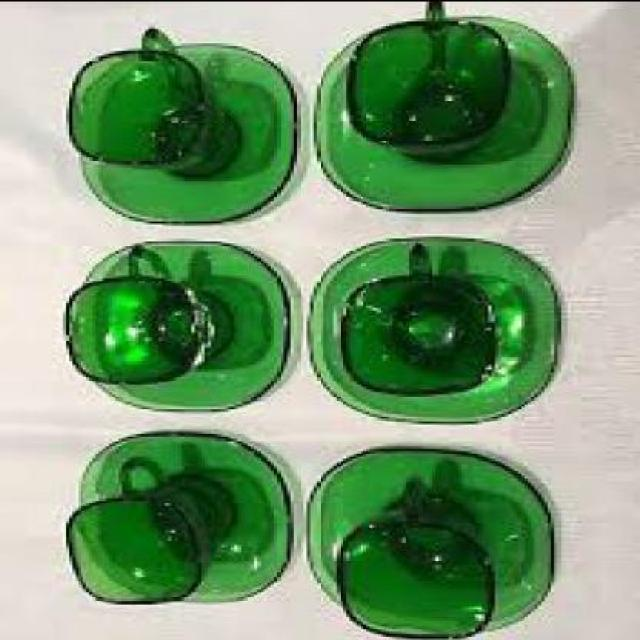GLASS: (310, 17, 572, 212), (307, 237, 558, 425), (308, 450, 550, 633), (75, 44, 294, 225), (76, 242, 287, 413), (79, 435, 290, 603), (332, 478, 497, 638), (343, 2, 508, 161), (66, 30, 234, 178), (337, 244, 498, 398), (63, 460, 225, 606), (62, 247, 218, 385)
